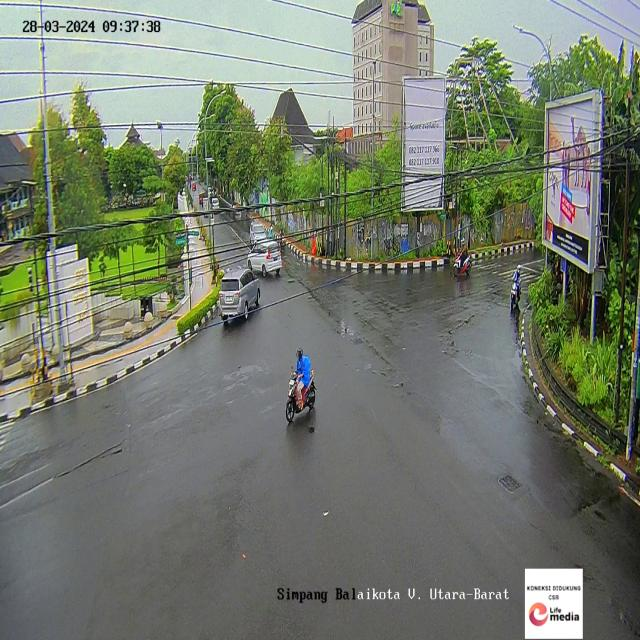car: (218, 274, 262, 324), (247, 244, 282, 278), (248, 218, 266, 251)
motorcycle: (284, 346, 314, 429), (454, 240, 473, 279), (512, 263, 521, 322), (278, 226, 288, 254)
